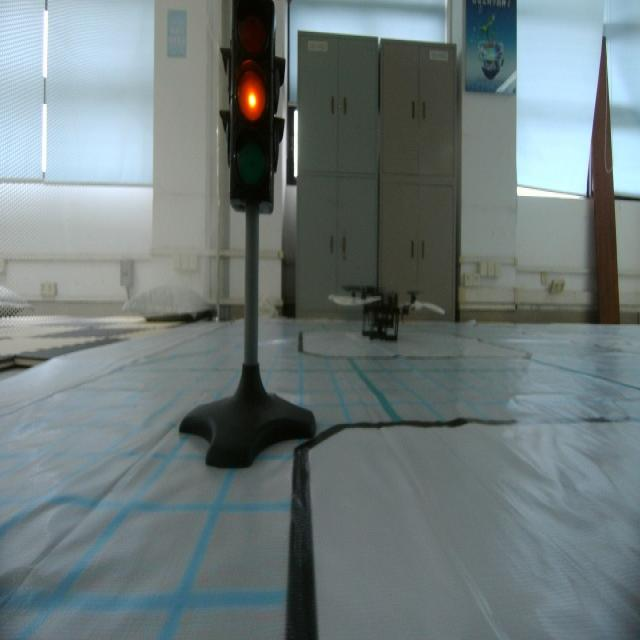red: (226, 4, 279, 213)
